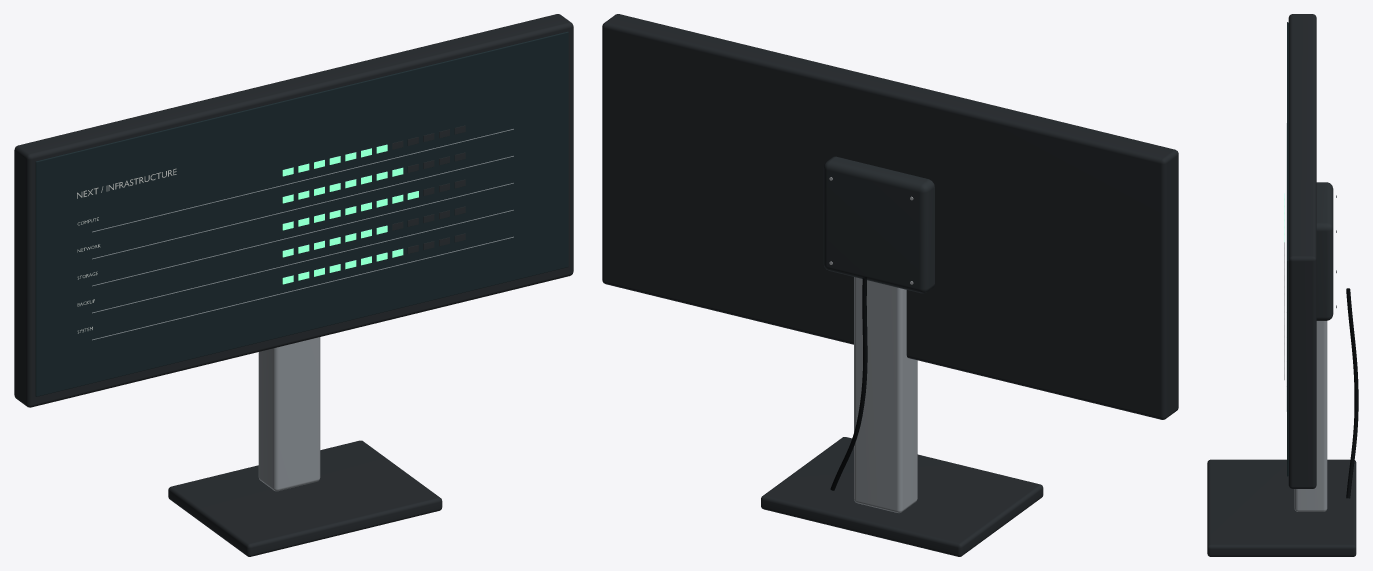
The model's file is monitor.81fc8685b6b4.glb.
The picture shows the model from 3 angles, left to right: view 1: azimuth 30°, elevation 25°; view 2: azimuth 150°, elevation 25°; view 3: azimuth 270°, elevation 25°; orthographic projection. The views are drawn at different scales.
Visible parts, largest first — view 1: Display panel, WORKSTATION_MONITOR / V2 charcoal powdercoat, Monitor stand, WORKSTATION_MONITOR / Green status LED, WORKSTATION_MONITOR / Satin aluminium, WORKSTATION_MONITOR / Charcoal powder coated steel; view 2: WORKSTATION_MONITOR / V2 charcoal powdercoat, Monitor stand, WORKSTATION_MONITOR / Charcoal powder coated steel, WORKSTATION_MONITOR / Dark cavity interior; view 3: WORKSTATION_MONITOR / V2 charcoal powdercoat, Monitor stand, WORKSTATION_MONITOR / Charcoal powder coated steel, WORKSTATION_MONITOR / Dark cavity interior, Display panel, WORKSTATION_MONITOR / Satin aluminium.
Part boxes in pixels (box(x1,y1,x2,y2)): Display panel: box(35, 31, 568, 396); WORKSTATION_MONITOR / V2 charcoal powdercoat: box(14, 14, 573, 556); Monitor stand: box(258, 337, 320, 491); WORKSTATION_MONITOR / Green status LED: box(282, 144, 418, 284); WORKSTATION_MONITOR / Satin aluminium: box(92, 129, 513, 340); WORKSTATION_MONITOR / Charcoal powder coated steel: box(392, 125, 465, 253); WORKSTATION_MONITOR / V2 charcoal powdercoat: box(602, 14, 1178, 556); Monitor stand: box(854, 277, 917, 512); WORKSTATION_MONITOR / Charcoal powder coated steel: box(823, 156, 934, 293); WORKSTATION_MONITOR / Dark cavity interior: box(830, 277, 867, 490); WORKSTATION_MONITOR / V2 charcoal powdercoat: box(1207, 14, 1356, 556); Monitor stand: box(1294, 321, 1327, 511); WORKSTATION_MONITOR / Charcoal powder coated steel: box(1284, 182, 1333, 379); WORKSTATION_MONITOR / Dark cavity interior: box(1336, 196, 1358, 498); Display panel: box(1287, 22, 1288, 476); WORKSTATION_MONITOR / Satin aluminium: box(1286, 123, 1286, 411).
Bounding box in the file's own units: 0.7 × 0.505 × 0.1826.
